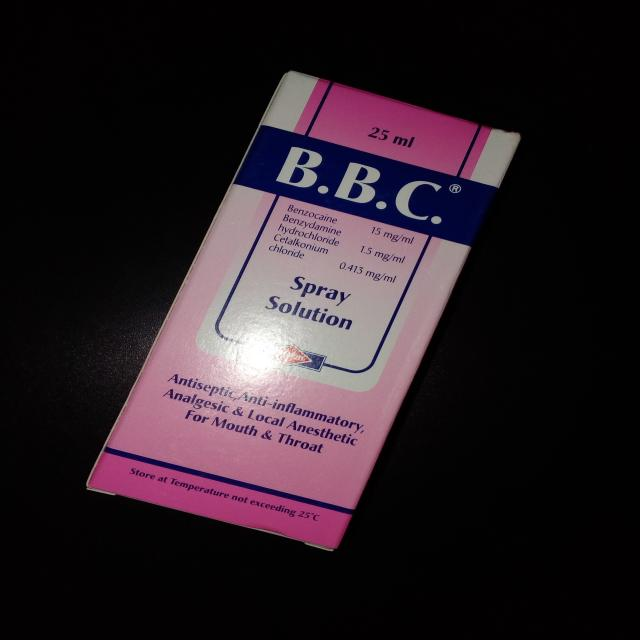Medicine: (88, 66, 527, 554)
